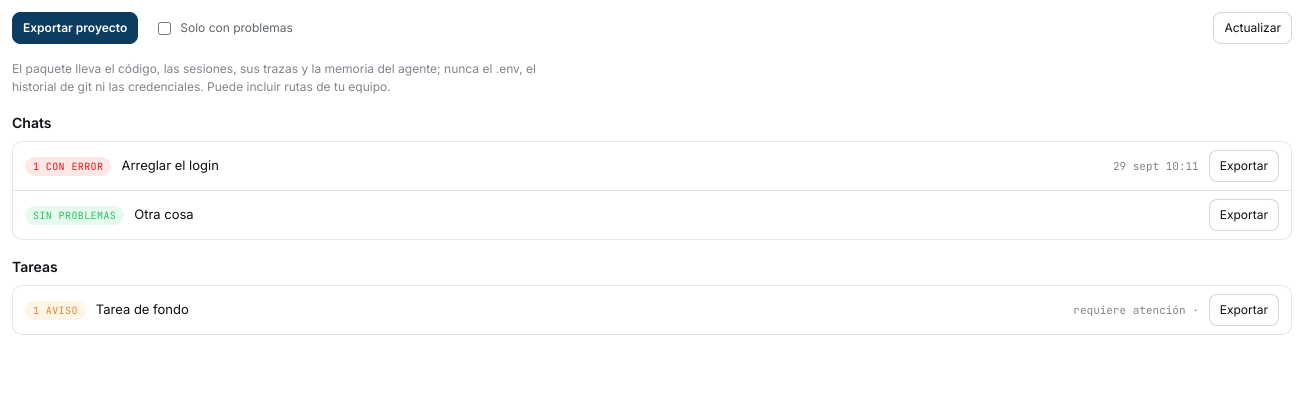
SoporteDelProyecto › los hallazgos se DESPLIEGAN al pulsar el título, y plegados no están montados
Expected: the text "terminó en error" is not shown
Click the button "Arreglar el login". click: (170, 165)
box: left=121, top=156, right=1103, bottom=176
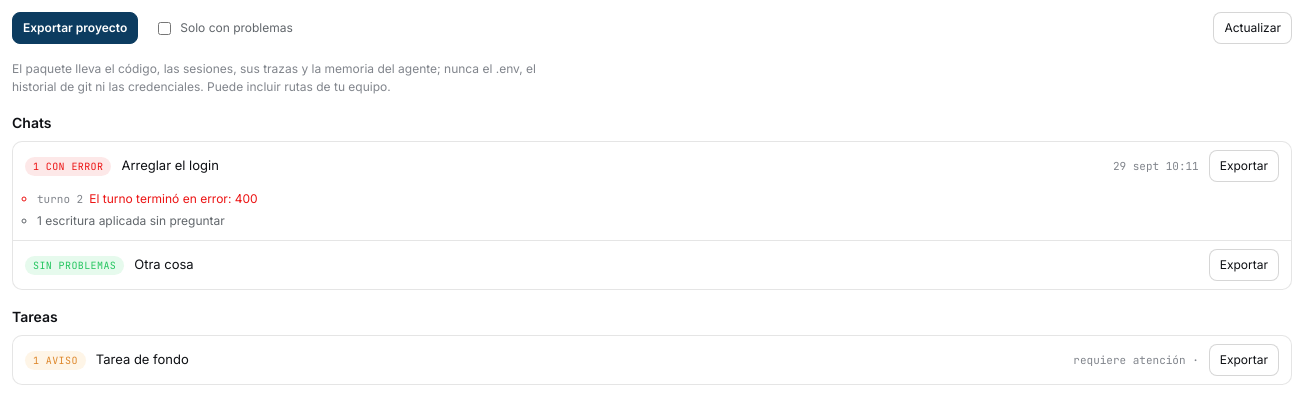
Now the list item "turno 2El turno terminó en error: 400" is shown, box left=37, top=191, right=258, bottom=206
Click the button "Arreglar el login". click: (170, 165)
box: left=121, top=156, right=1103, bottom=176
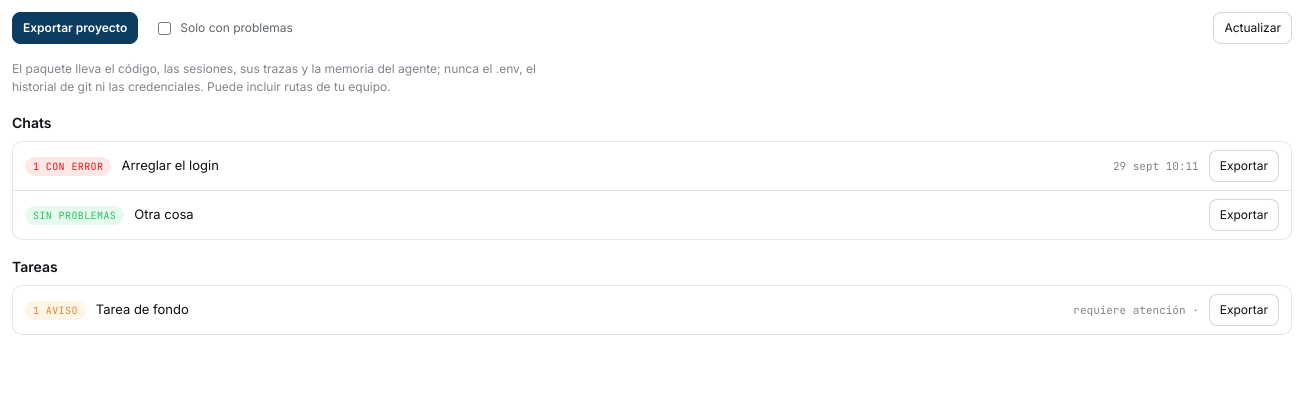
Now the list item "terminó en error" is gone
